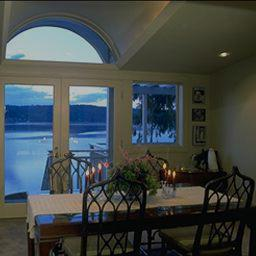Puerta: (0, 77, 117, 199)
